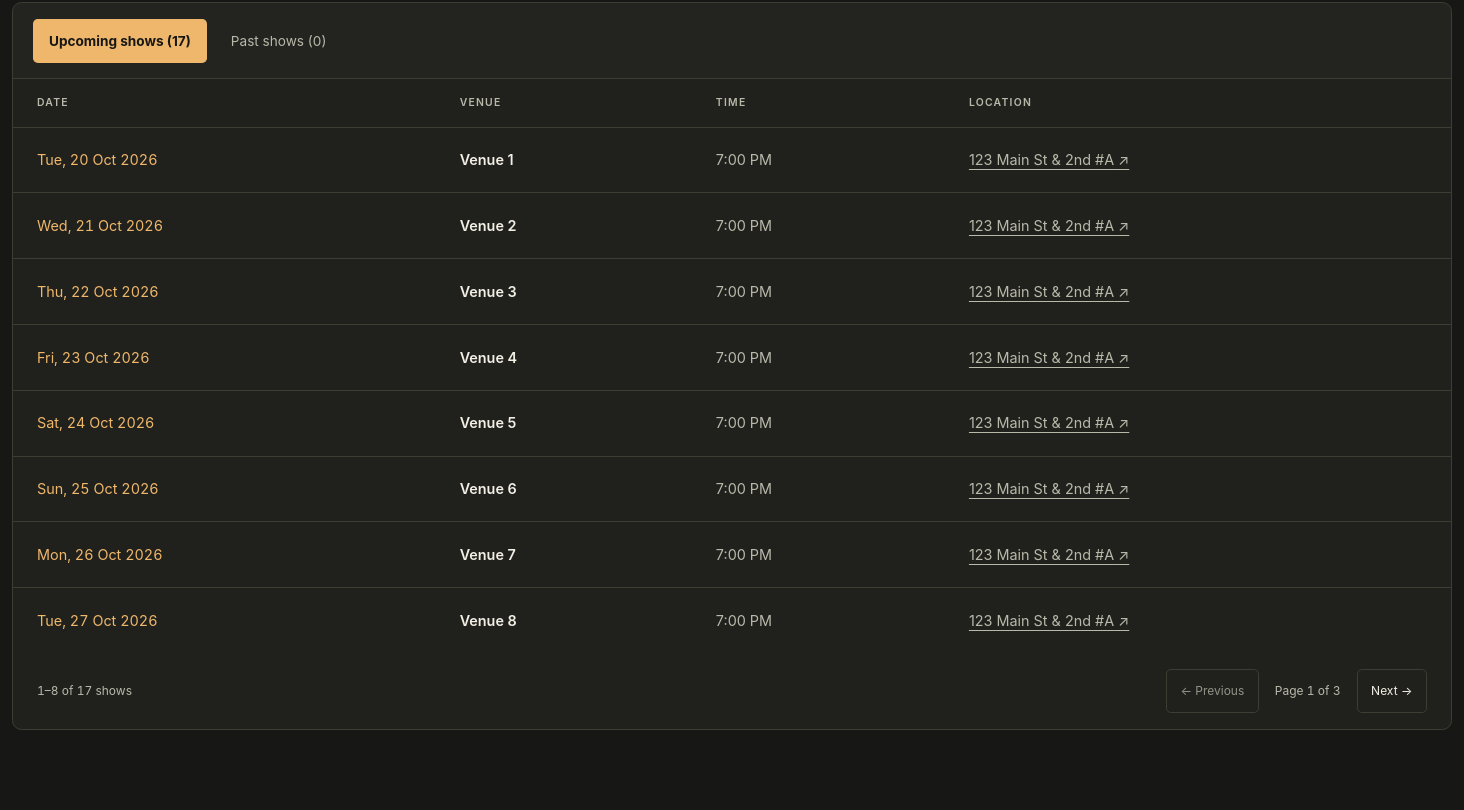
Test: paginates eight rows at a time with correct boundaries and final partial page
(page scrolled)
Expected: the message reads "1–8 of 17 shows", [37,682,132,700]
Expected: the button "← Previous" is disabled, [1166,669,1259,713]
What coordinates should you click on to do the following:
click the button "Next →"
I would click on:
 (1392, 691)
Its box is [1356,669,1427,713].
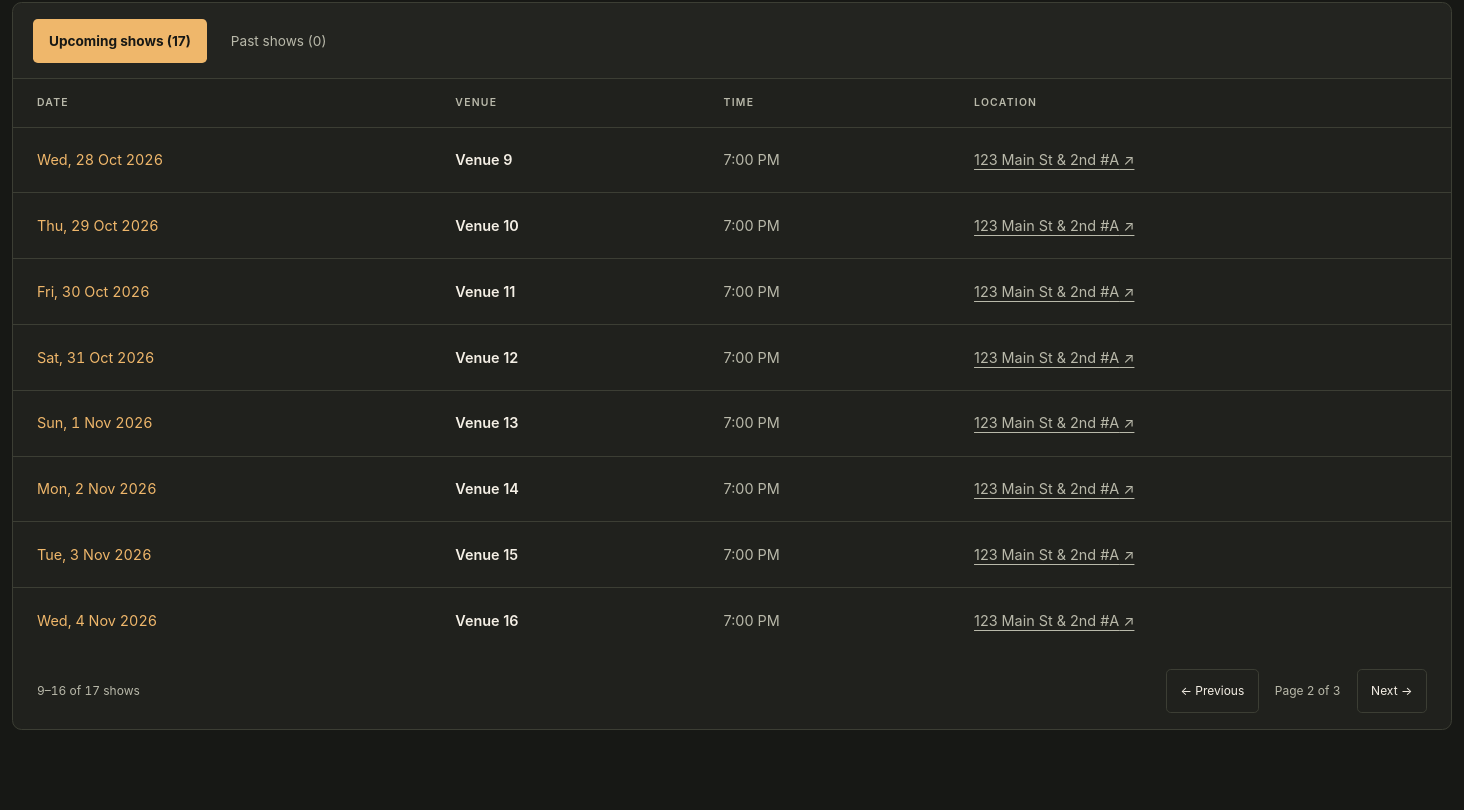
Expected: the message reads "9–16 of 17 shows", [37,682,140,700]
What coordinates should you click on to do the following:
click the button "Next →"
I would click on:
 (1392, 691)
Its box is [1356,669,1427,713].
(page scrolled)
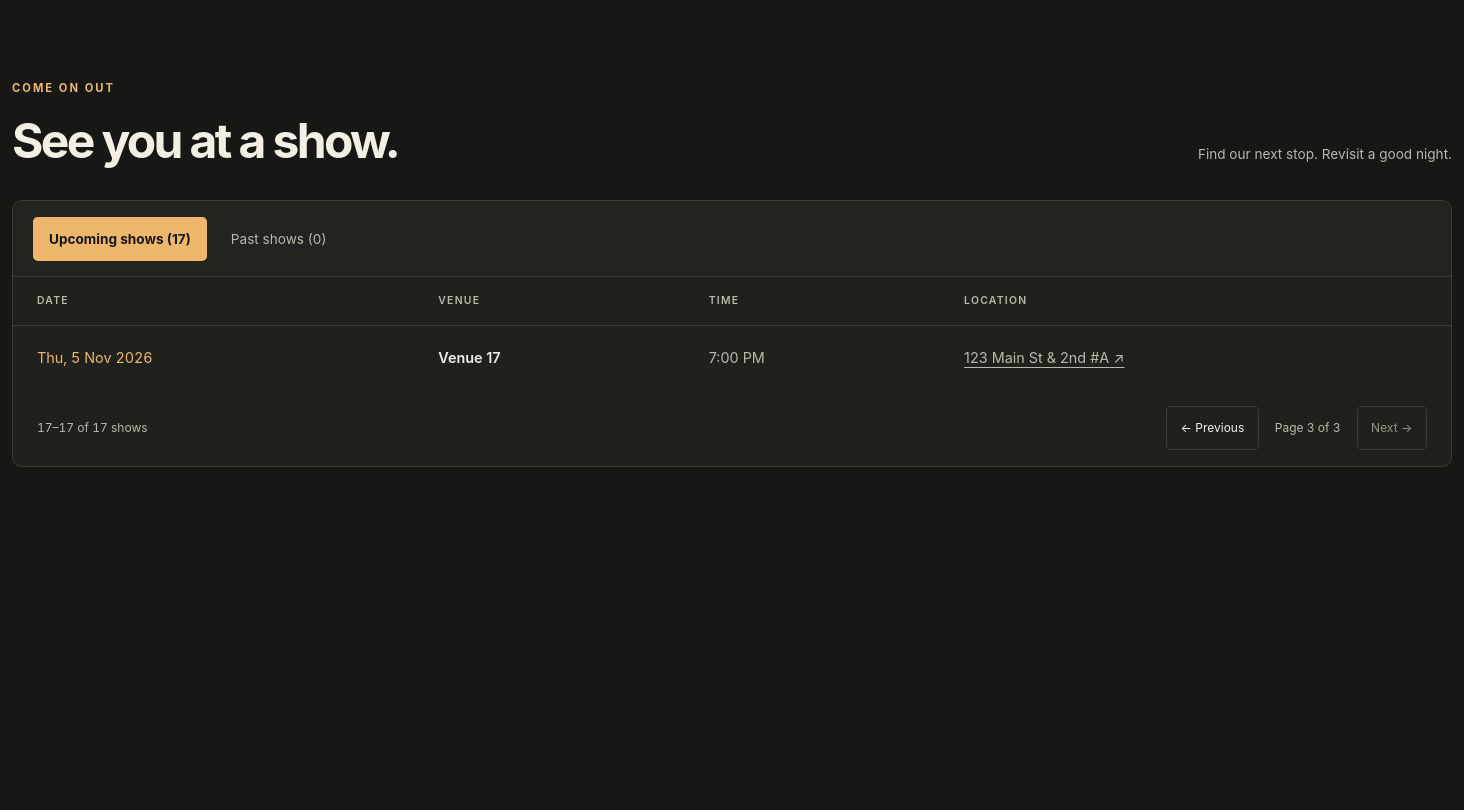
Expected: the message reads "17–17 of 17 shows", [37,419,148,437]
Expected: the button "Next →" is disabled, [1356,406,1427,450]
What coordinates should you click on to do the following:
click the button "← Previous"
I would click on:
 (1212, 428)
Its box is [1166,406,1259,450].
(page scrolled)
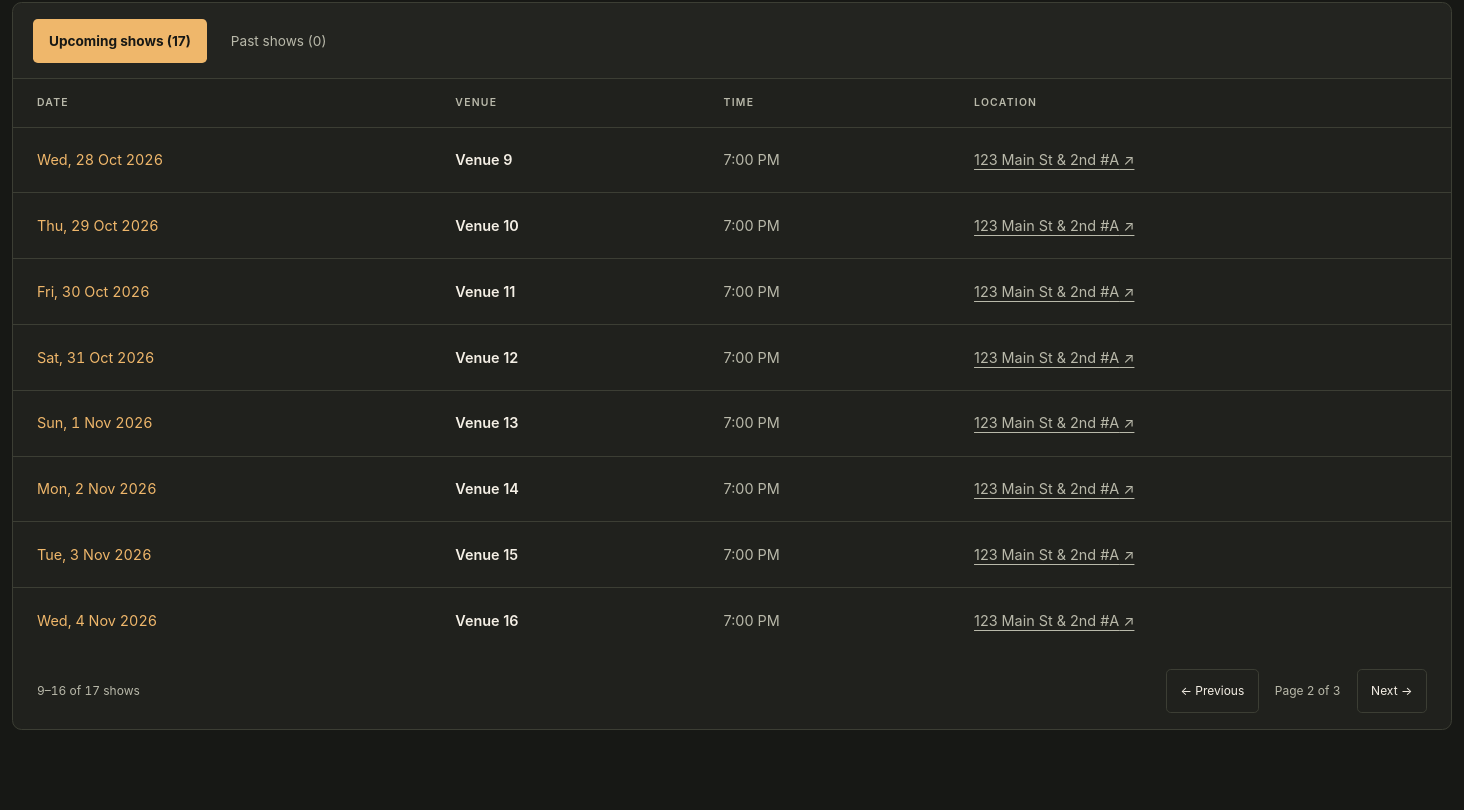
Expected: the message reads "9–16 of 17 shows", [37,682,140,700]
